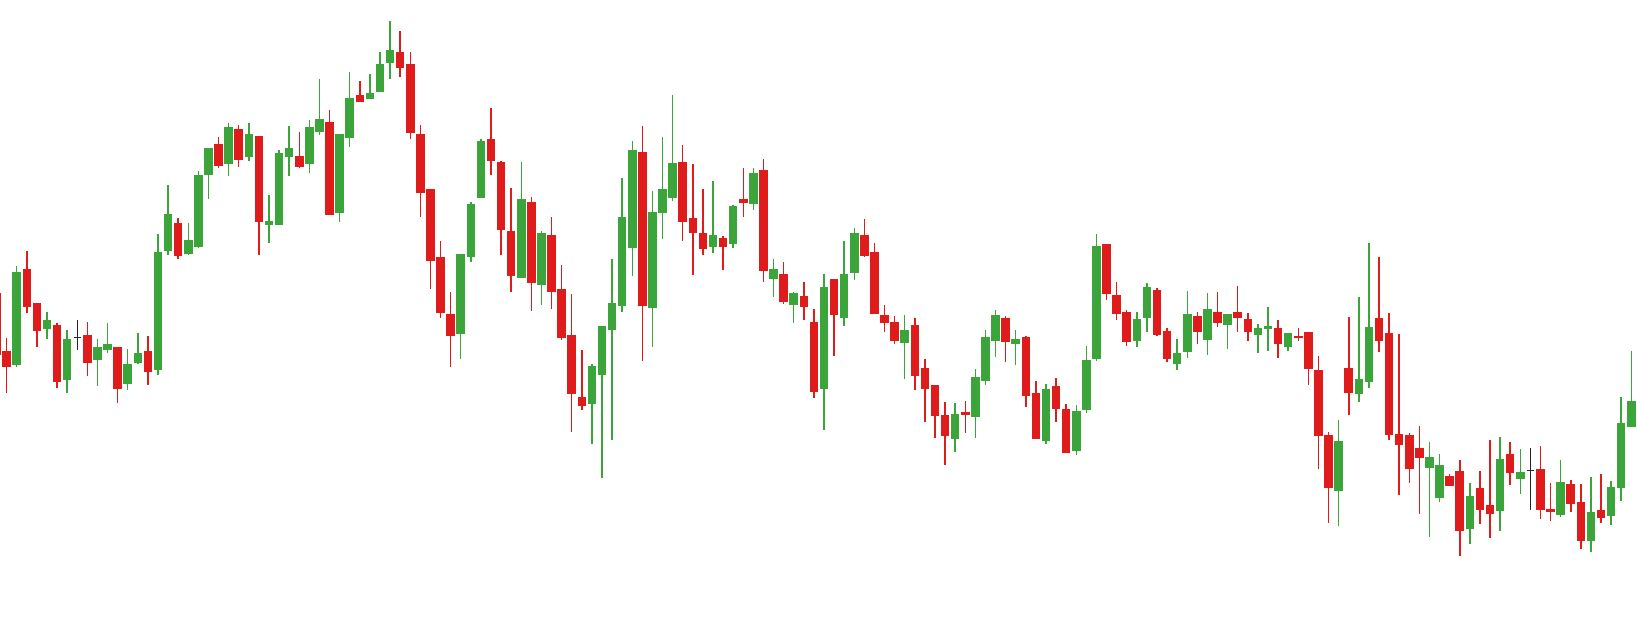sell: (485, 83, 688, 300)
